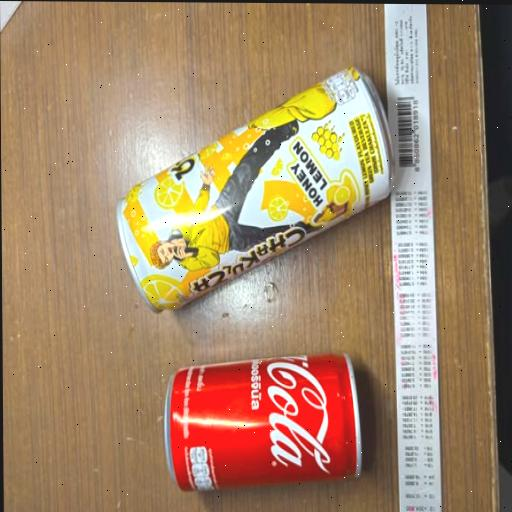canned: (95, 44, 409, 335), (146, 331, 372, 512)
